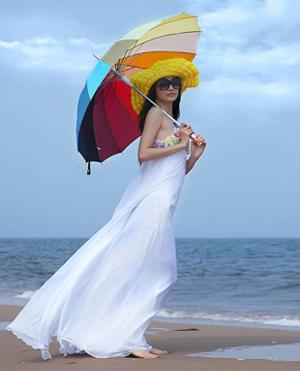person: (5, 60, 207, 363)
